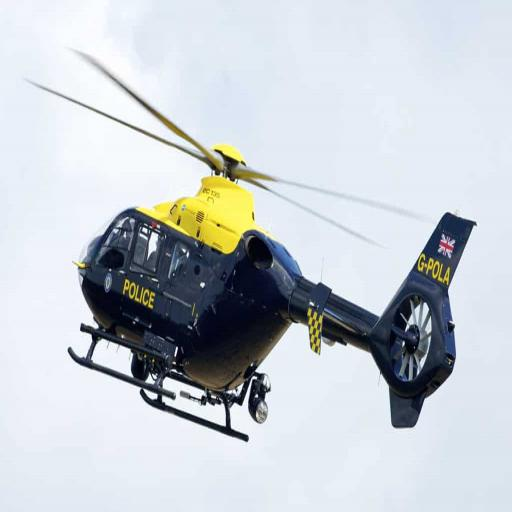helicopter: (23, 50, 480, 443)
